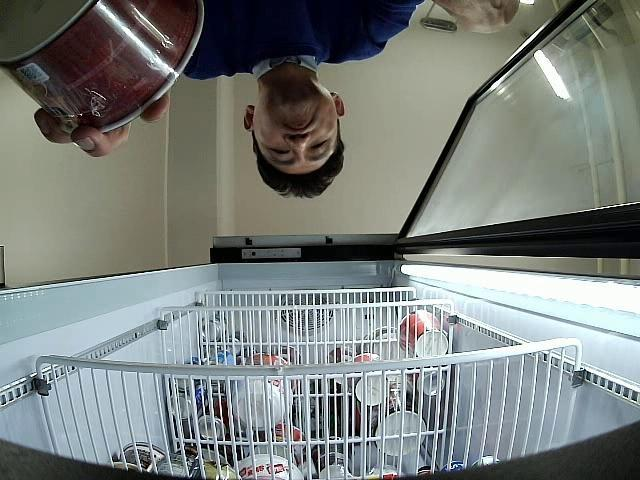05_nuguri_L: (0, 0, 204, 135)
